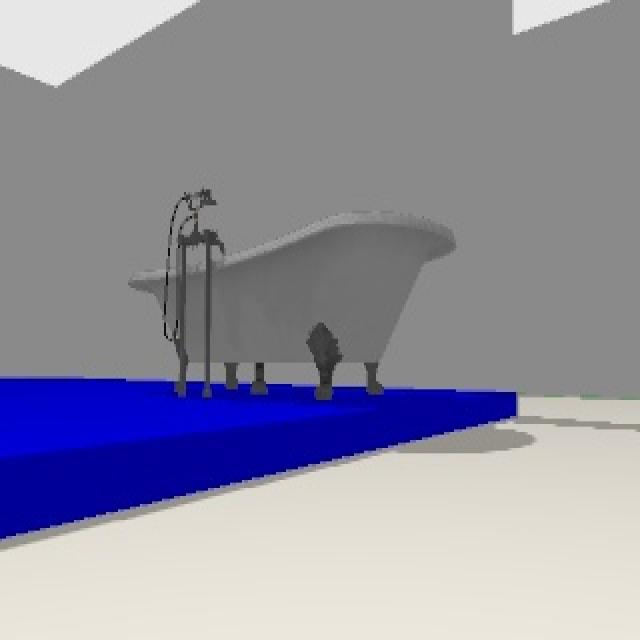bathtub: (128, 182, 456, 400)
